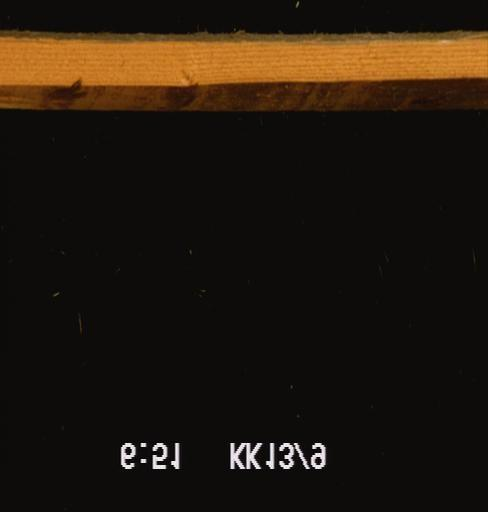wave: (0, 75, 485, 114), (3, 21, 486, 49)
